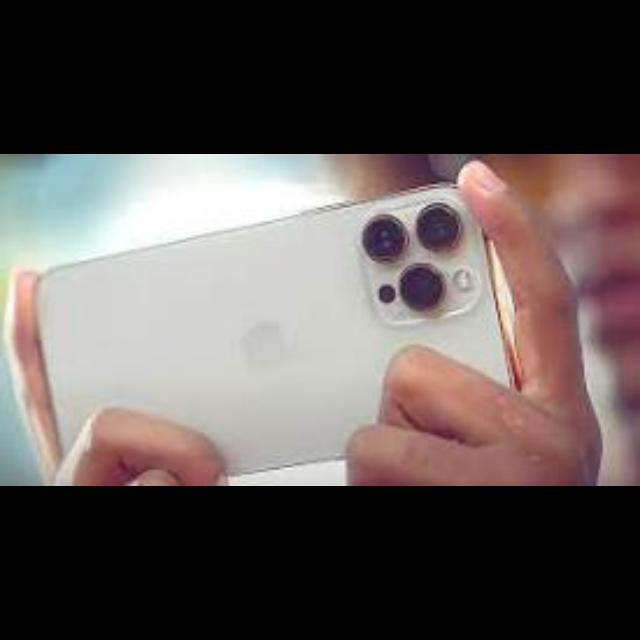Phone: (31, 182, 522, 484)
